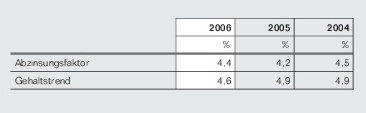table: (0, 0, 366, 113)
